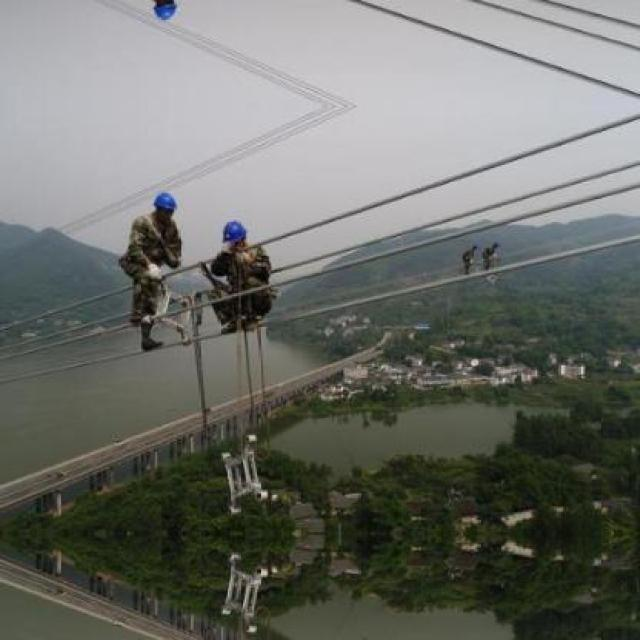helmet: (221, 216, 247, 251), (150, 189, 176, 223), (149, 0, 177, 25)
